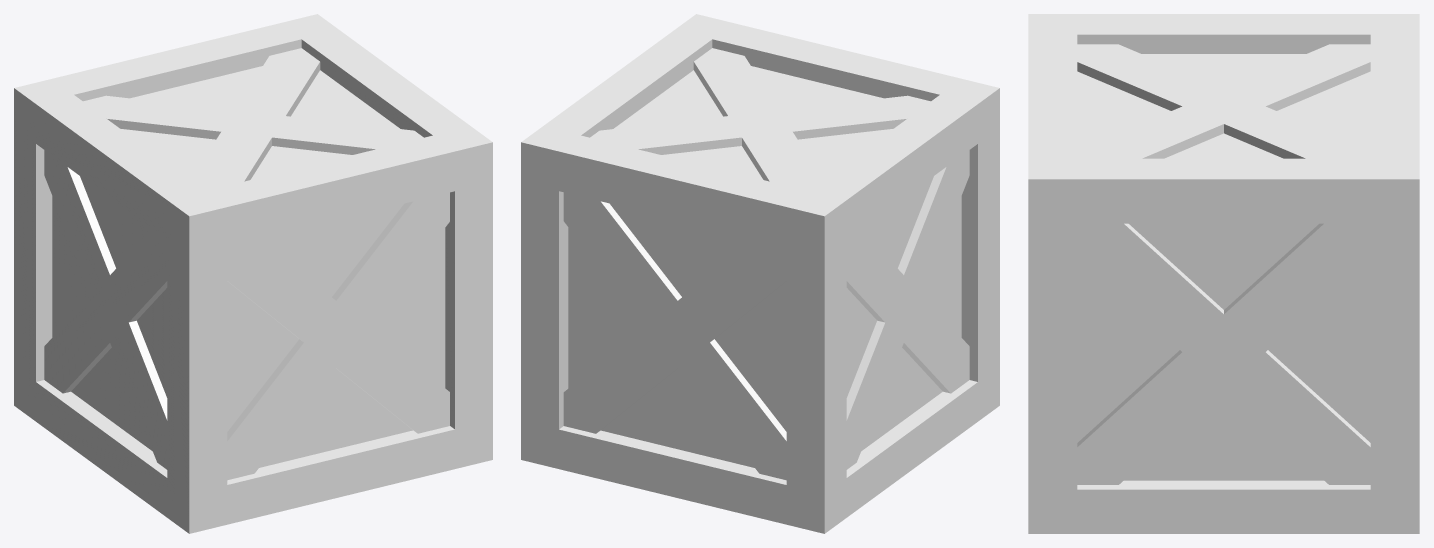
File: Crate.fbx
3 renders of one model, left to right at view 1: azimuth 30°, elevation 25°; view 2: azimuth 150°, elevation 25°; view 3: azimuth 270°, elevation 25°, orthographic. The views are drawn at different scales.
Parts seen in each view (by area): view 1: Cube; view 2: Cube; view 3: Cube.
Part boxes in pixels (left/top/right/bottom): Cube: left=14, top=14, right=492, bottom=533; Cube: left=521, top=14, right=999, bottom=533; Cube: left=1028, top=14, right=1419, bottom=533.
Bounding box in the file's own units: 400 × 400 × 400.
